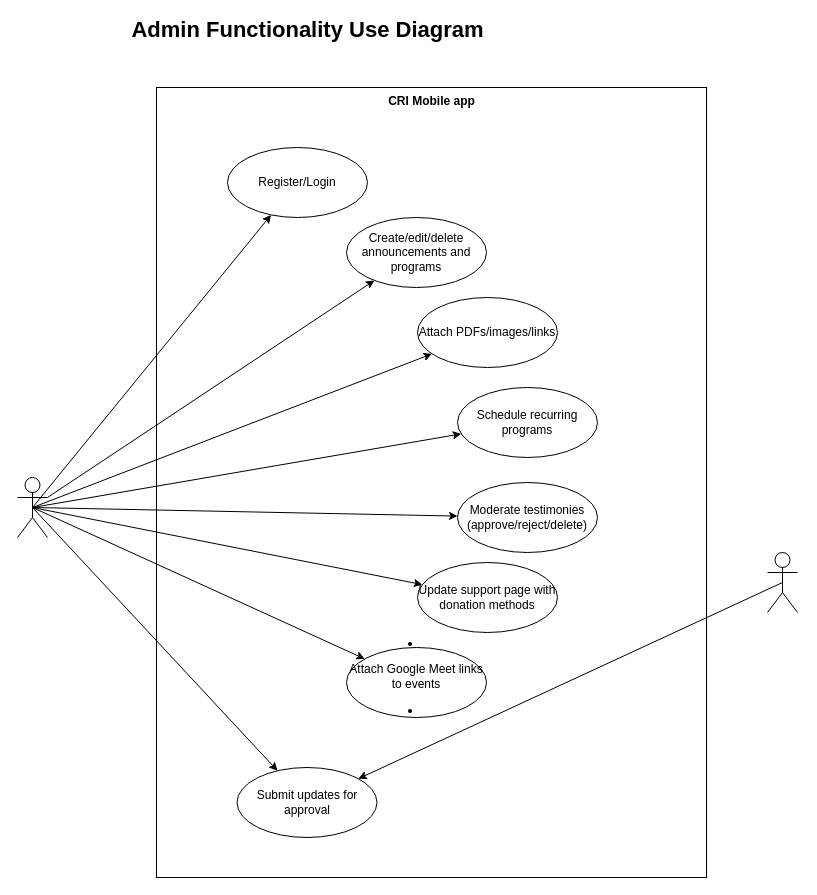
The diagram is 817 pixels wide and 895 high, and some of its shapes have lost their labels. The box of each missing label's shape, as (x1, y1, x2, y2) in pixels:
Admin: (766, 552, 798, 612)
Amin: (16, 476, 48, 538)
